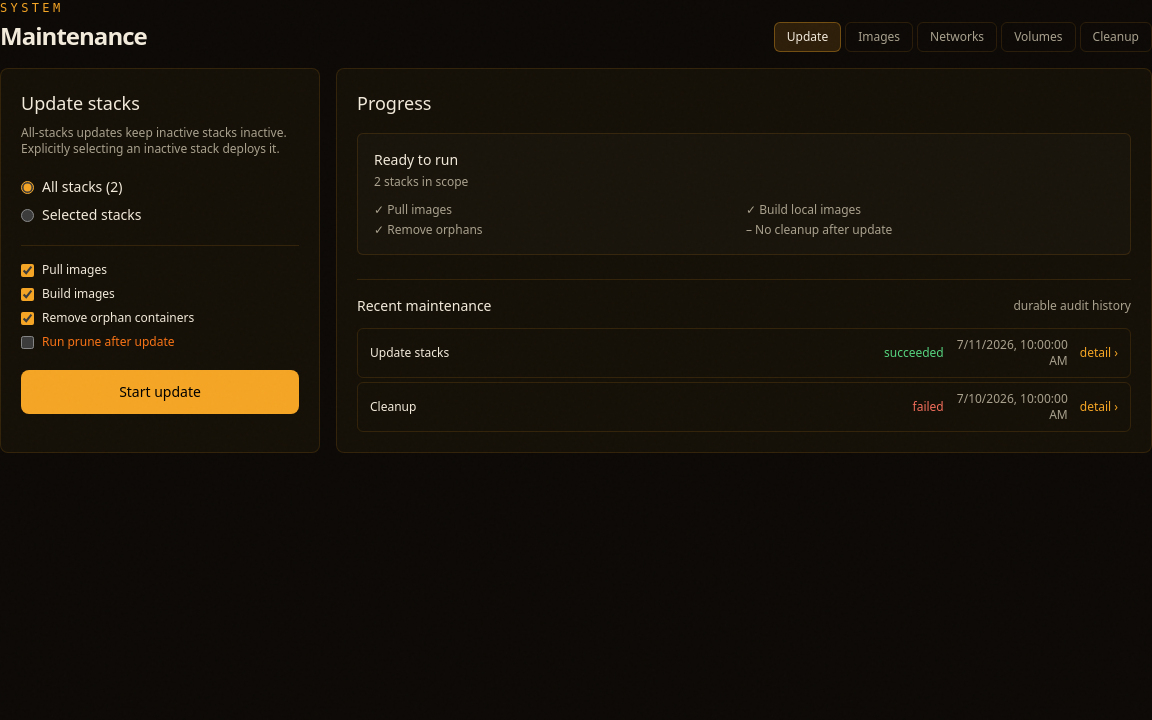
Test: MaintenancePage › reviews the all-stack target, restart impact, snapshot, and recovery
Click the button with test id "maintenance-start".
click(160, 392)  # box [21,370,299,414]
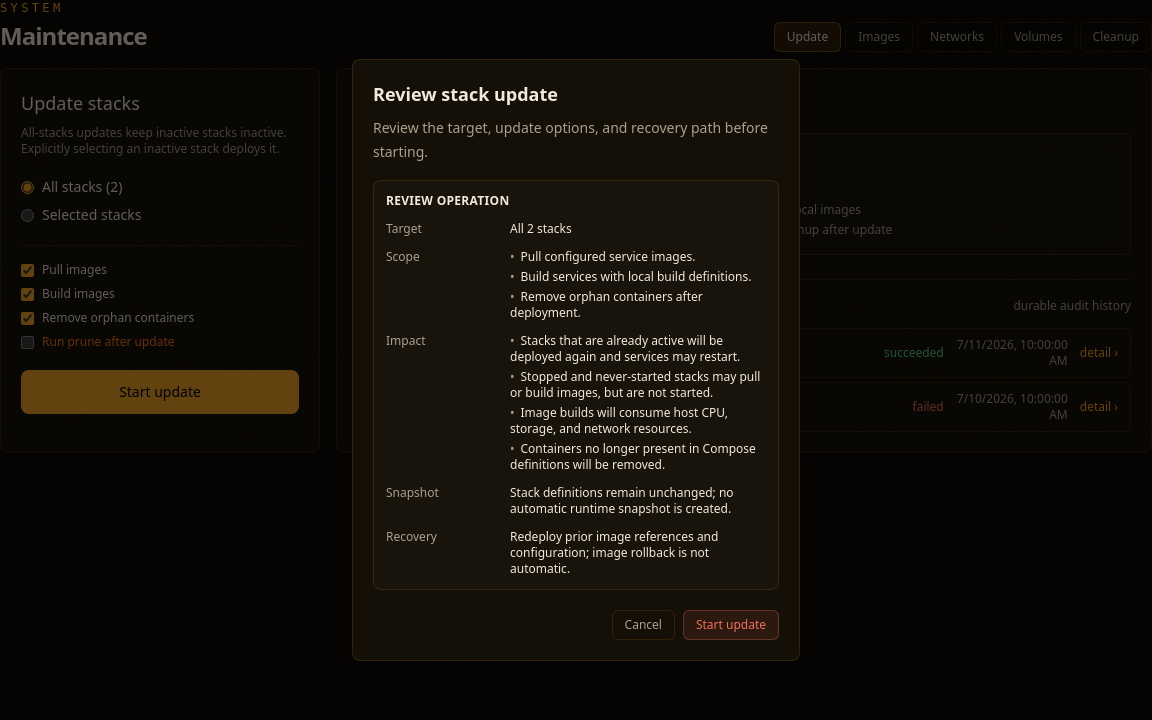
Expected: the dialog "Review stack update" is shown, [352,59,800,661]
Expected: the element "Review operation" shows "All 2 stacks", [510,220,572,237]
Expected: the element "Review operation" shows "Stacks that are already active will be deployed again and services may restart.", [510,332,740,365]
